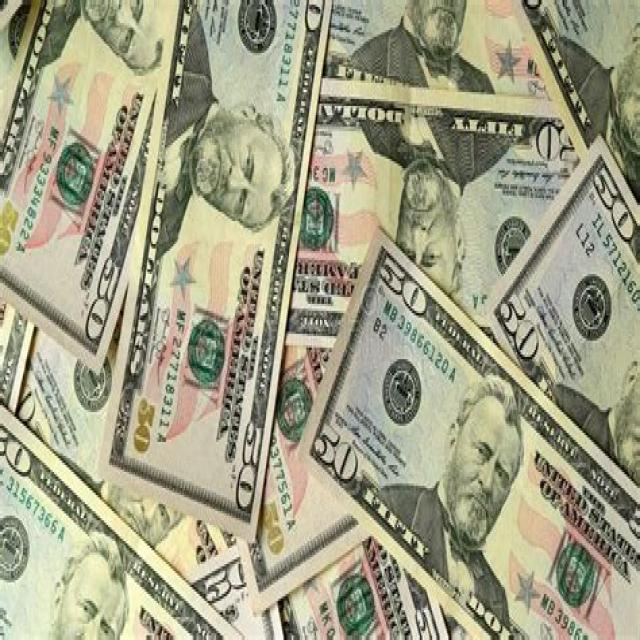Fifty: (299, 228, 640, 640), (97, 0, 334, 546), (274, 77, 588, 346), (0, 0, 176, 368), (0, 399, 246, 638), (483, 133, 640, 497), (518, 0, 638, 228), (320, 0, 557, 109)
